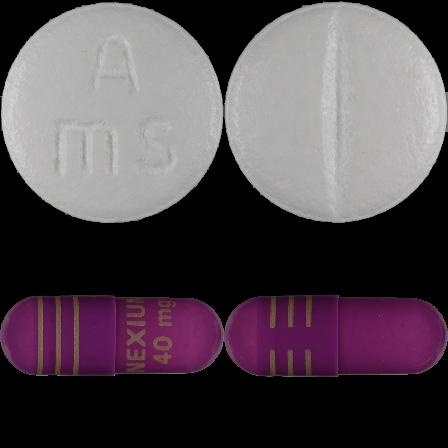55154-9609: (0, 0, 224, 224)
